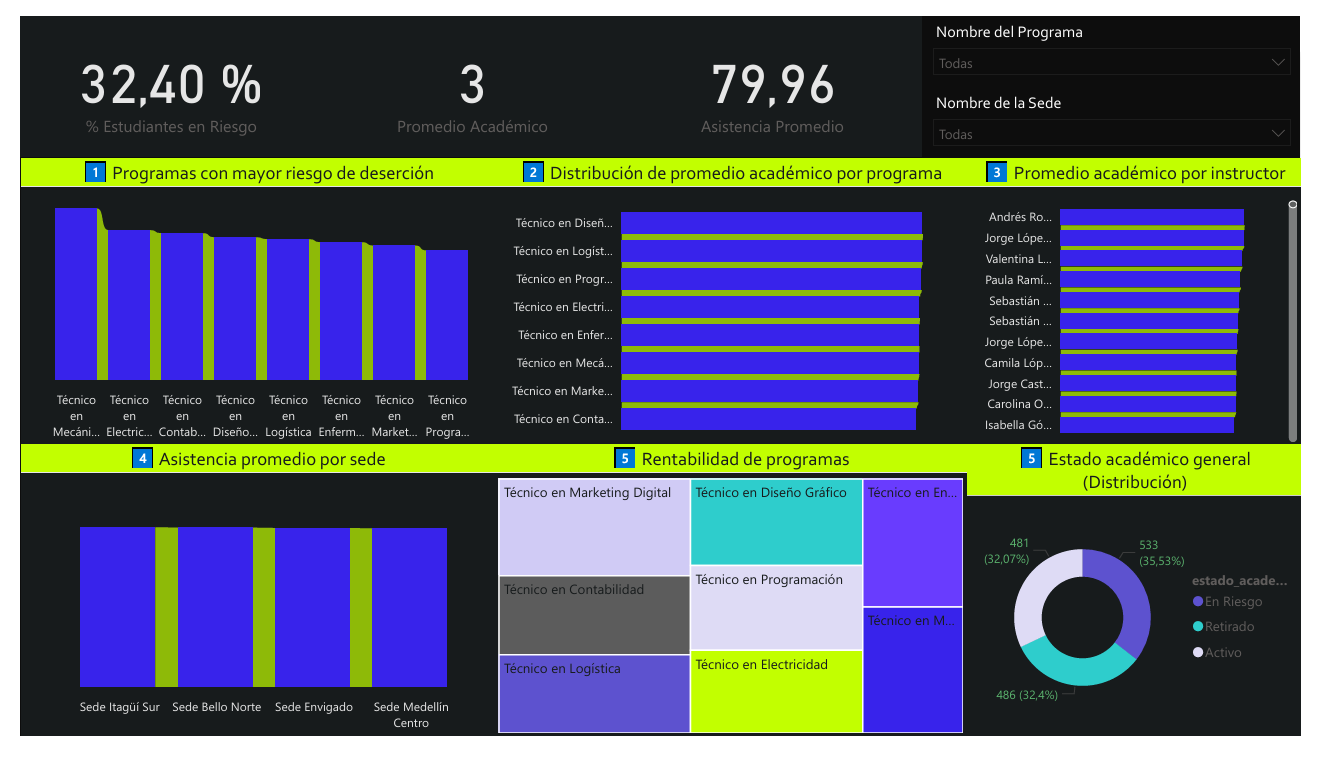

The page's visual inventory and layout, read from the dashboard file:
{"tool":"powerbi","page":{"name":"Página 1","canvas":[1280,720],"ordinal":0},"visuals":[{"type":"columnChart","title":"1️⃣ Programas con mayor riesgo de deserción","fields":{"Category":["dim_programas.nombre_programa"],"Y":["Tabla.% Estudiantes en Riesgo"]},"box":[0.6,142.4,472.9,286.5],"z":0},{"type":"barChart","title":"2️⃣ Distribución de promedio académico por programa","fields":{"Category":["dim_programas.nombre_programa"],"Y":["Tabla.Promedio Académico"]},"box":[474.1,142.4,472.9,286.5],"z":1000},{"type":"columnChart","title":"4️⃣ Asistencia promedio por sede","fields":{"Category":["dim_sedes.nombre_sede"],"Y":["DAX.Asistencia Promedio"]},"box":[1.1,427.8,472.2,292.2],"z":2000},{"type":"treemap","title":"5️⃣ Rentabilidad de programas","fields":{"Group":["dim_programas.nombre_programa"],"Values":["DAX.Valor Relativo"]},"box":[473.4,427.5,473.4,292.2],"z":3000},{"type":"barChart","title":"3️⃣ Promedio académico por instructor","fields":{"Category":["dim_estudiantes.nombre_completo"],"Y":["DAX.Promedio Académico"]},"box":[947.1,142.4,333.5,286.5],"z":4000},{"type":"donutChart","title":"5️⃣ Estado académico general (Distribución)","fields":{"Category":["hechos_academicos.estado_academico"],"Y":["DAX.Total Estudiantes"]},"box":[946.7,427.8,334.4,292.2],"z":5000},{"type":"card","fields":{"Values":["DAX.% Estudiantes en Riesgo"]},"box":[0,0,301.1,141.1],"z":6000},{"type":"card","fields":{"Values":["DAX.Promedio Académico"]},"box":[301.1,0,301,141.1],"z":7000},{"type":"card","fields":{"Values":["DAX.Asistencia Promedio"]},"box":[601.1,0,301.1,141],"z":8000},{"type":"slicer","title":"Nobre ","fields":{"Values":["dim_programas.nombre_programa"]},"box":[902.2,0,377.8,71.1],"z":9000},{"type":"slicer","fields":{"Values":["dim_sedes.nombre_sede"]},"box":[902.2,71.1,377.8,71.1],"z":10000}]}

Visuals, with their boxes in screenshot pixels (x1, y1, x2, y2), scaled from the page's 1280x720 canvas onto the 1319x758 screenshot:
"1️⃣ Programas con mayor riesgo de deserción" columnChart: left=1, top=150, right=488, bottom=452
"2️⃣ Distribución de promedio académico por programa" barChart: left=489, top=150, right=976, bottom=452
"4️⃣ Asistencia promedio por sede" columnChart: left=1, top=450, right=488, bottom=757
"5️⃣ Rentabilidad de programas" treemap: left=488, top=450, right=976, bottom=757
"3️⃣ Promedio académico por instructor" barChart: left=976, top=150, right=1318, bottom=452
"5️⃣ Estado académico general (Distribución)" donutChart: left=976, top=450, right=1318, bottom=757
card - DAX.% Estudiantes en Riesgo: left=0, top=0, right=310, bottom=149
card - DAX.Promedio Académico: left=310, top=0, right=620, bottom=149
card - DAX.Asistencia Promedio: left=619, top=0, right=930, bottom=148
"Nobre " slicer: left=930, top=0, right=1318, bottom=75
slicer - dim_sedes.nombre_sede: left=930, top=75, right=1318, bottom=150
